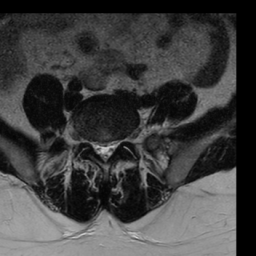CCS_normal: (101, 136, 108, 167)
LFS_severe_stenosis: (118, 134, 125, 150)
LLS_stenosis: (109, 135, 117, 157)
RFS_severe_stenosis: (85, 133, 93, 152)
RLS_normal: (93, 136, 101, 163)
